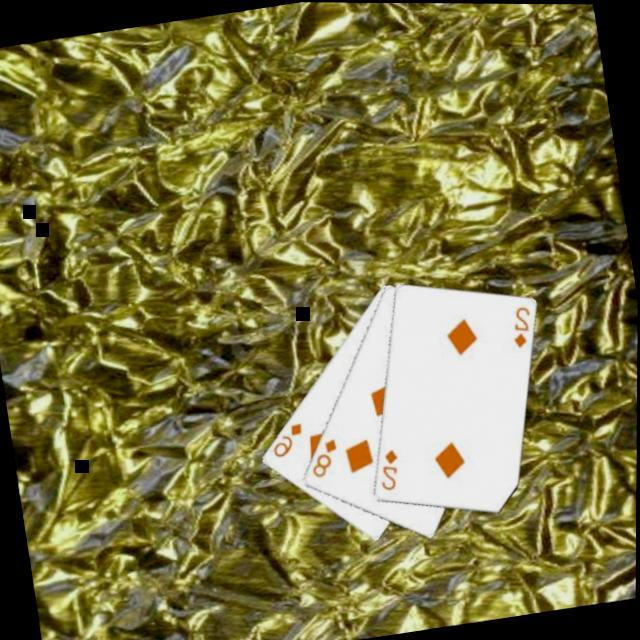2D: (372, 442, 405, 492), (503, 299, 536, 349)
8D: (303, 432, 343, 479)
9D: (265, 417, 308, 460)
